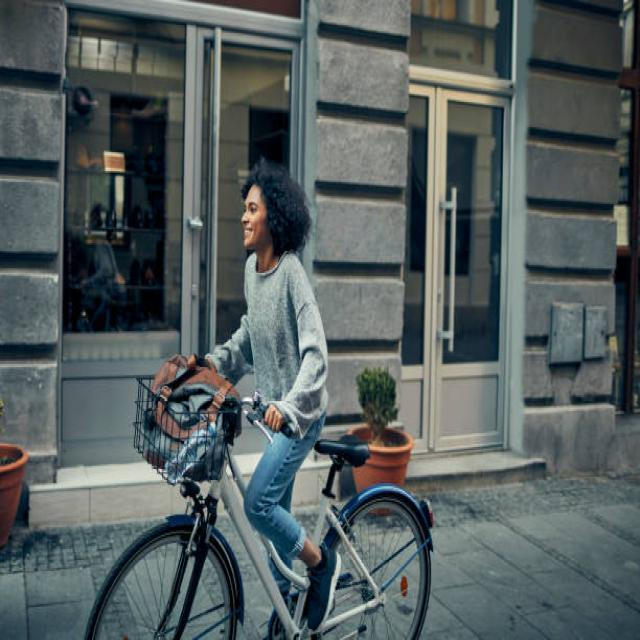bicycle: (86, 159, 430, 639)
